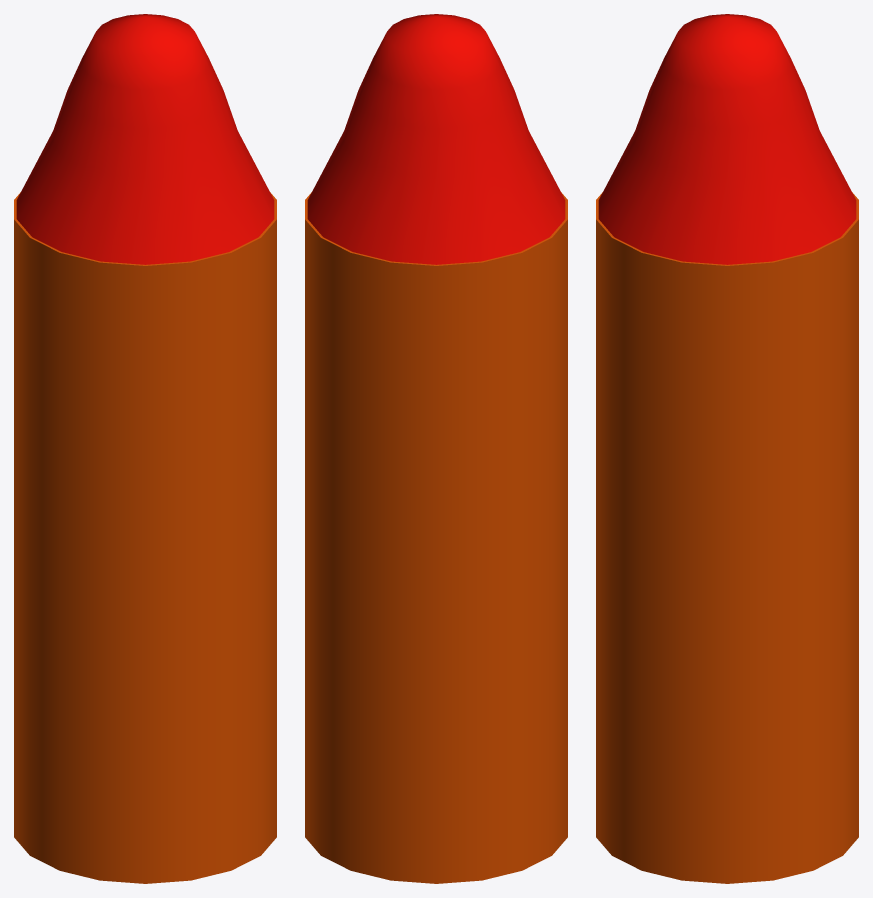
File: redcrayon_Up.FBX
The picture shows the model from 3 angles, left to right: view 1: azimuth 30°, elevation 25°; view 2: azimuth 150°, elevation 25°; view 3: azimuth 270°, elevation 25°; orthographic projection.
Parts seen in each view (by area): view 1: Cylinder001, Cylinder002; view 2: Cylinder001, Cylinder002; view 3: Cylinder001, Cylinder002.
Boxes of the visible parts, box(x1,y1,x2,y2) form: Cylinder001: box(14, 192, 276, 883); Cylinder002: box(16, 14, 274, 264); Cylinder001: box(305, 192, 567, 883); Cylinder002: box(307, 14, 565, 264); Cylinder001: box(596, 192, 858, 883); Cylinder002: box(598, 14, 856, 264).
Size of the model in its own units: 12.9 by 43.25 by 12.71.
